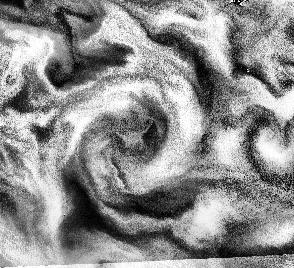AE: (81, 69, 208, 198)
